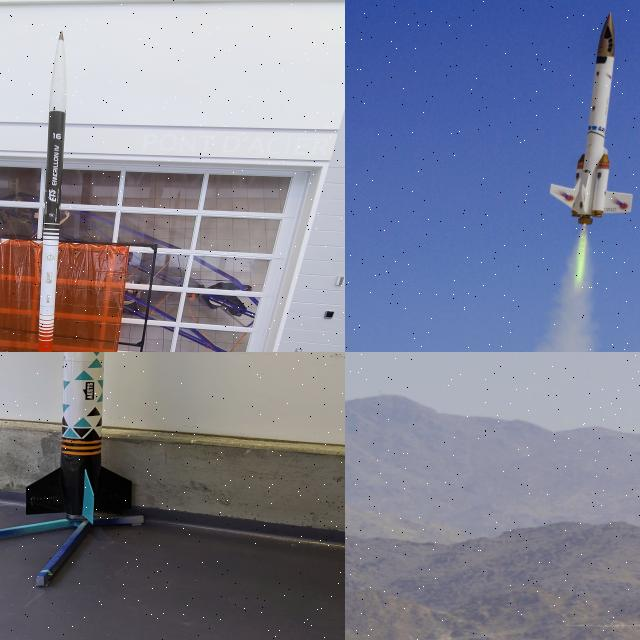Rocket: (549, 11, 636, 222), (26, 352, 132, 525), (38, 31, 67, 352)
